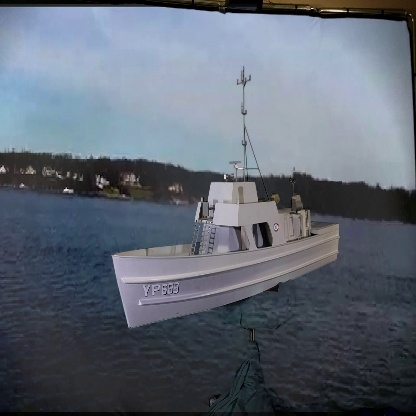YP689: (112, 65, 339, 331)
